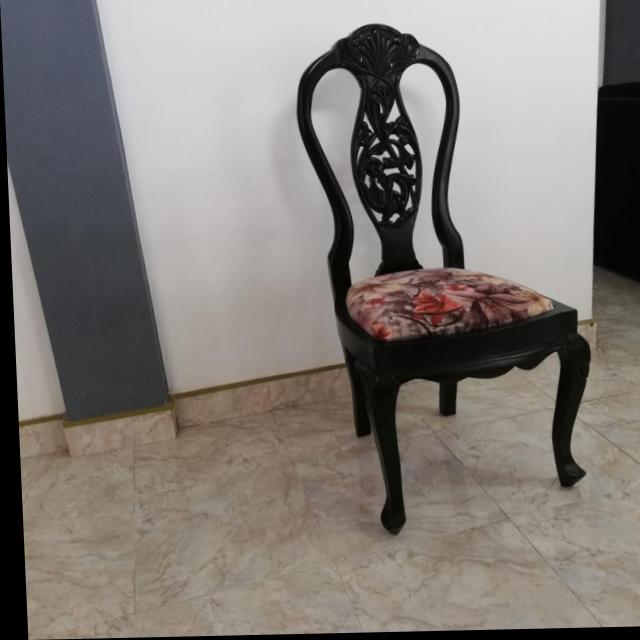Chair: (294, 21, 593, 538)
